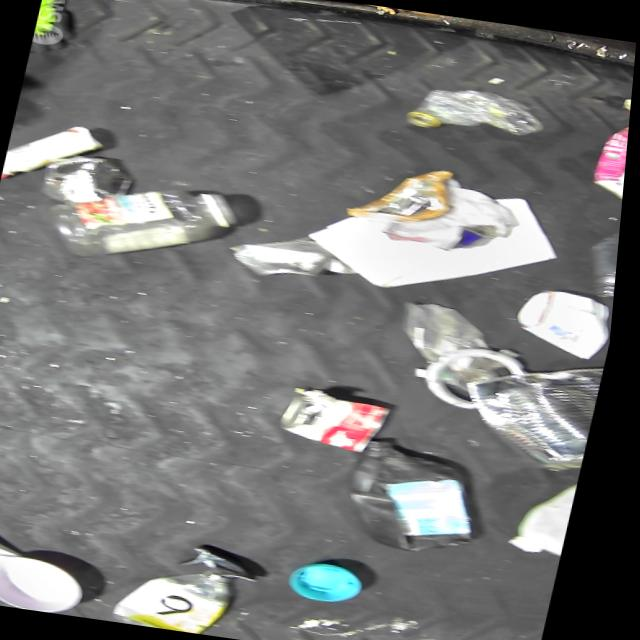can: (455, 344, 613, 474), (339, 156, 532, 260), (512, 284, 620, 361), (279, 389, 402, 456), (38, 148, 143, 211)
milk_jug: (514, 454, 591, 558)
non_white_jug: (345, 434, 506, 560)
plastic_bottle: (42, 170, 252, 278), (403, 78, 555, 144)
